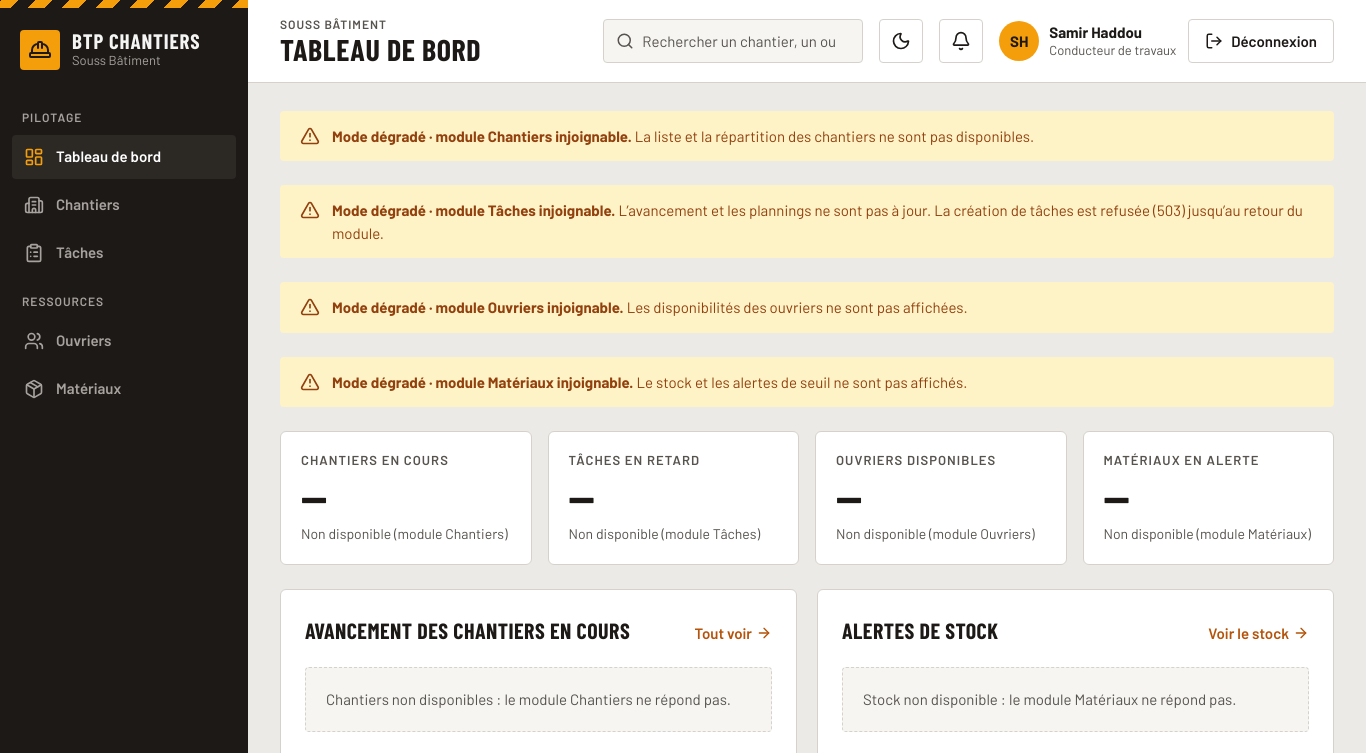
Test case: Layout et routes › bascule le thème et mémorise le choix
Click the button named "Passer en thème sombre": click(901, 41) x1=879 y1=19 x2=923 y2=63
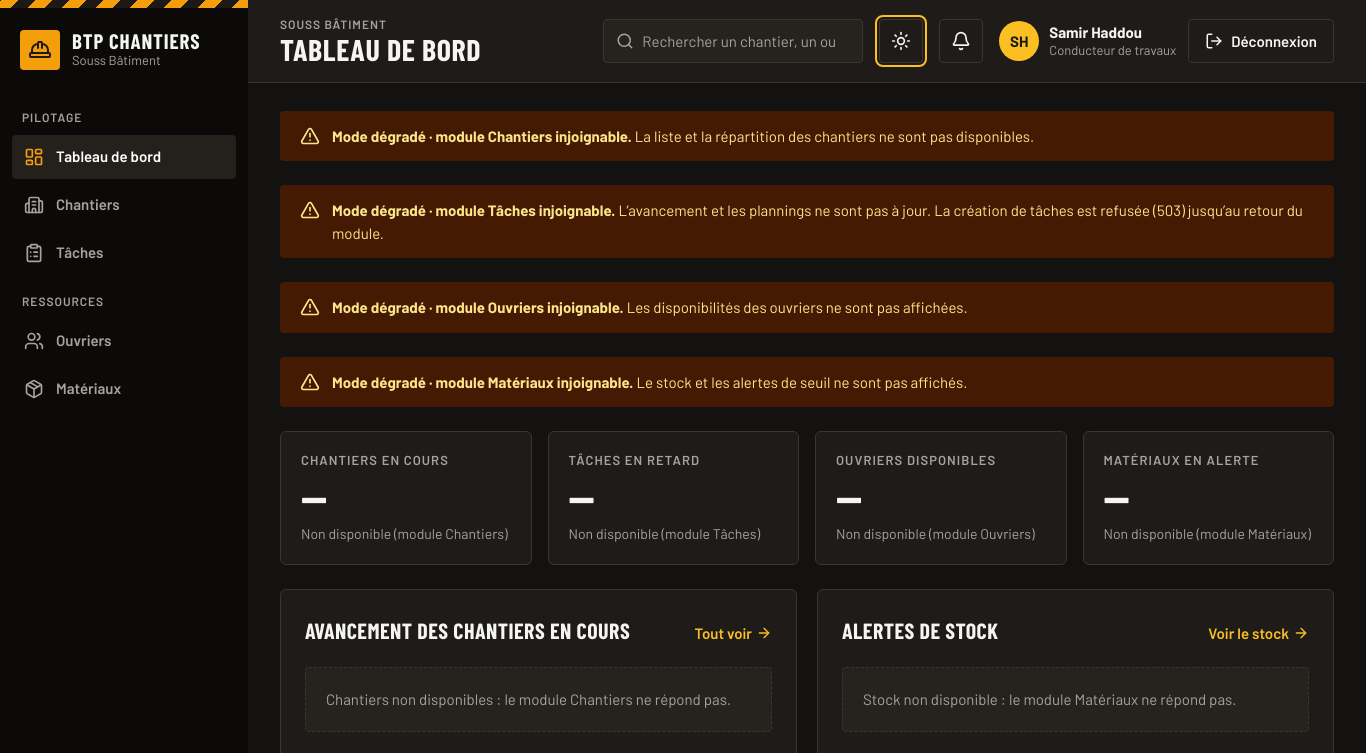
Result: the button named "Passer en thème clair" is shown at x1=879 y1=19 x2=923 y2=63
